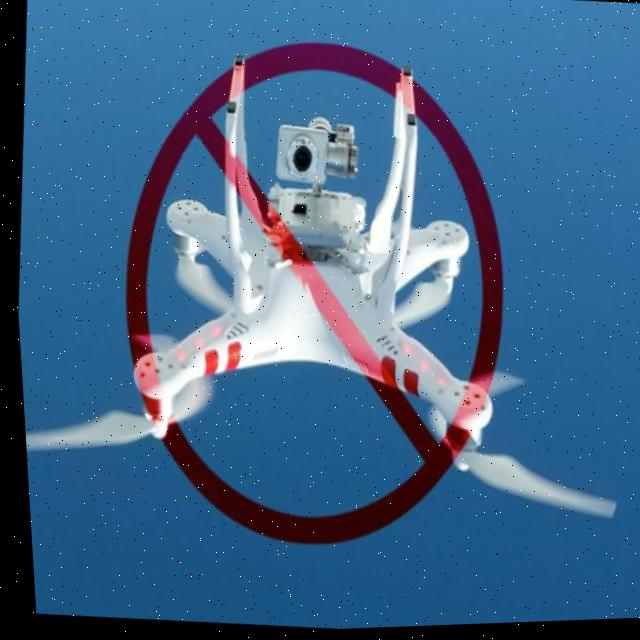drones: (1, 0, 640, 568)
